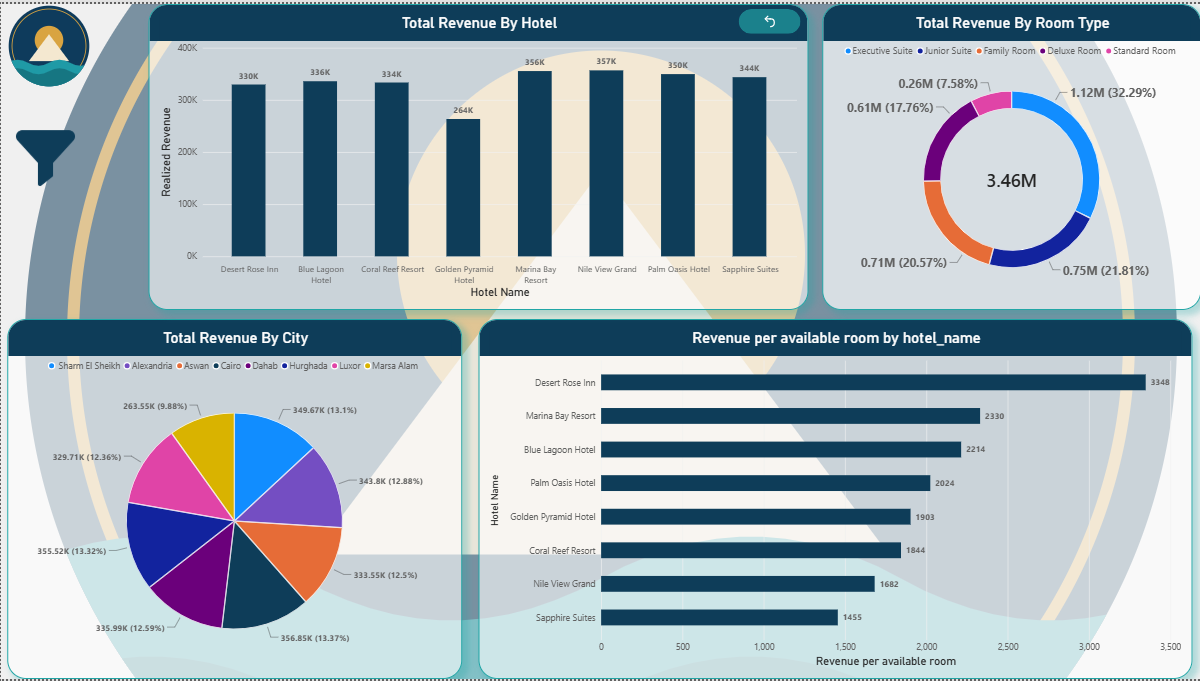

The dashboard page shown, as its layout file describes it:
{"tool":"powerbi","page":{"name":"Revenue and performance","canvas":[1920,1080],"ordinal":2},"visuals":[{"type":"pieChart","title":"Total Revenue By City","fields":{"Category":["dim_hotel.city"],"Y":["Measures Table.Realized Revenue"]},"box":[9.6,505,727.7,576],"z":0},{"type":"barChart","fields":{"Category":["dim_hotel.hotel_name"],"Y":["Measures Table.Revenue per available room"]},"box":[764.2,505,1142.4,576],"z":1000},{"type":"donutChart","title":"Total Revenue By Room Type","fields":{"Category":["dim_room_type.room_name"],"Y":["Sum(fact_bookings.total_amount)"]},"box":[1313.6,0,606.7,489.6],"z":2000},{"type":"columnChart","title":"Total Revenue By Hotel ","fields":{"Category":["dim_hotel.hotel_name"],"Y":["Measures Table.Realized Revenue"]},"box":[237,0,1056,489.6],"z":3000},{"type":"actionButton","title":"Button night ","box":[1179.6,8,99.5,39.8],"z":6000},{"type":"image","box":[0,0,153,134.3],"z":7000},{"type":"image","title":"Filter Button 1","box":[0,188.6,142.4,112.3],"z":8000}]}

Visuals, with their boxes in screenshot pixels (x1, y1, x2, y2), scaled from the page's 1920x1080 canvas onto the 1200x681 screenshot:
"Total Revenue By City" pieChart: (6,318,461,680)
barChart - dim_hotel.hotel_name x Measures Table.Revenue per available room: (478,318,1192,680)
"Total Revenue By Room Type" donutChart: (821,0,1199,309)
"Total Revenue By Hotel " columnChart: (148,0,808,309)
"Button night " actionButton: (737,5,799,30)
image: (0,0,96,85)
"Filter Button 1" image: (0,119,89,190)
